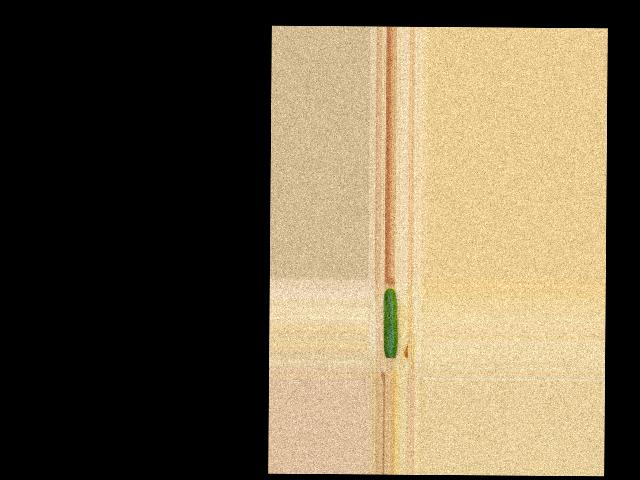cucumber: (383, 288, 397, 357)
